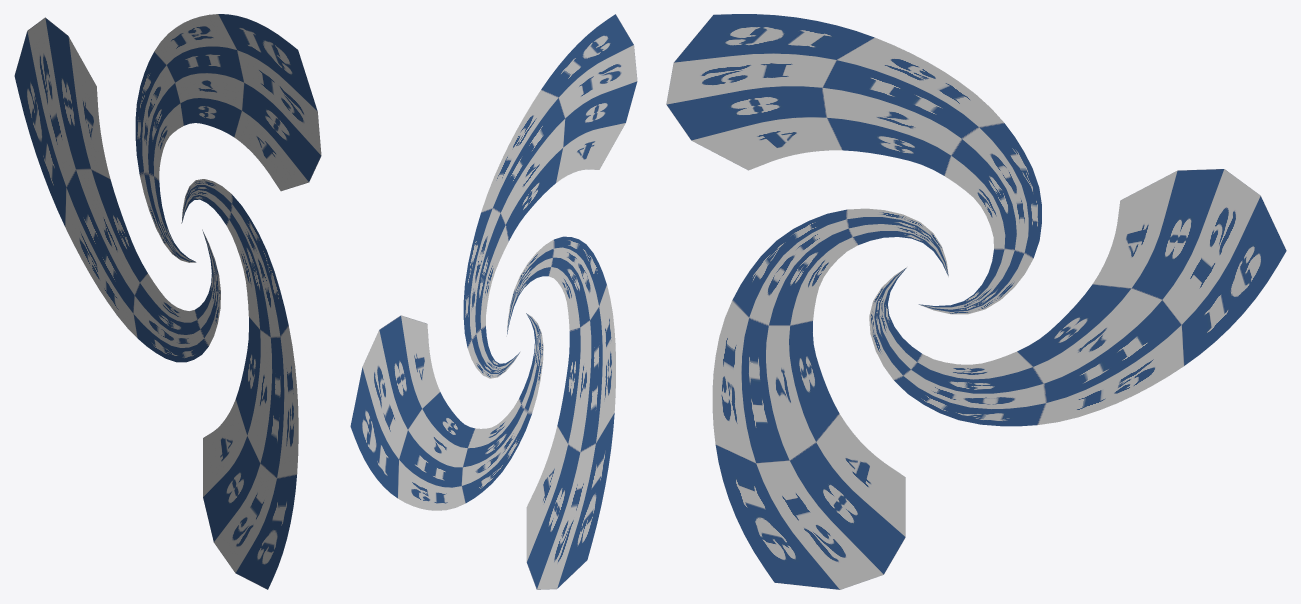
File: Ring17_1.fbx
3 views of the same model, side by side, from view 1: azimuth 30°, elevation 25°; view 2: azimuth 150°, elevation 25°; view 3: azimuth 270°, elevation 25° (orthographic). The views are drawn at different scales.
Parts seen in each view (by area): view 1: SM_e_cmn_Ring017; view 2: SM_e_cmn_Ring017; view 3: SM_e_cmn_Ring017.
Part boxes in pixels (x1,y1,x2,y2): SM_e_cmn_Ring017: (14, 14, 321, 589); SM_e_cmn_Ring017: (350, 14, 637, 589); SM_e_cmn_Ring017: (666, 14, 1286, 589).
Bounding box in the file's own units: 4.21e-05 × 203 × 198.
